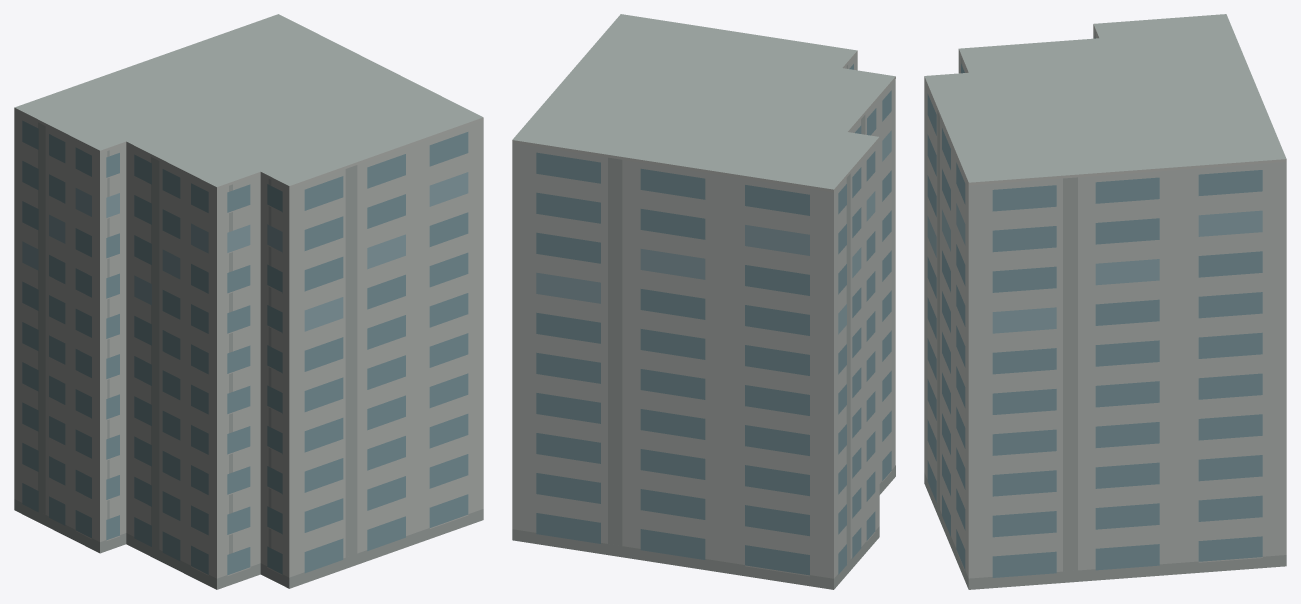
File: residential-40afe752-0271-4ef2-b2b5-12fbb8afcfd8.glb
3 renders of one model, left to right at view 1: azimuth 30°, elevation 25°; view 2: azimuth 150°, elevation 25°; view 3: azimuth 270°, elevation 25°, orthographic.
Parts seen in each view (by area): view 1: residential-40afe752-0271-4ef2-b2b5-12fbb8afcfd8.tmp; view 2: residential-40afe752-0271-4ef2-b2b5-12fbb8afcfd8.tmp; view 3: residential-40afe752-0271-4ef2-b2b5-12fbb8afcfd8.tmp.
Part boxes in pixels (x1,y1,x2,y2): residential-40afe752-0271-4ef2-b2b5-12fbb8afcfd8.tmp: (14, 14, 483, 589); residential-40afe752-0271-4ef2-b2b5-12fbb8afcfd8.tmp: (512, 14, 895, 589); residential-40afe752-0271-4ef2-b2b5-12fbb8afcfd8.tmp: (924, 14, 1286, 589).
Bounding box in the file's own units: 31.1 × 35 × 28.23.
